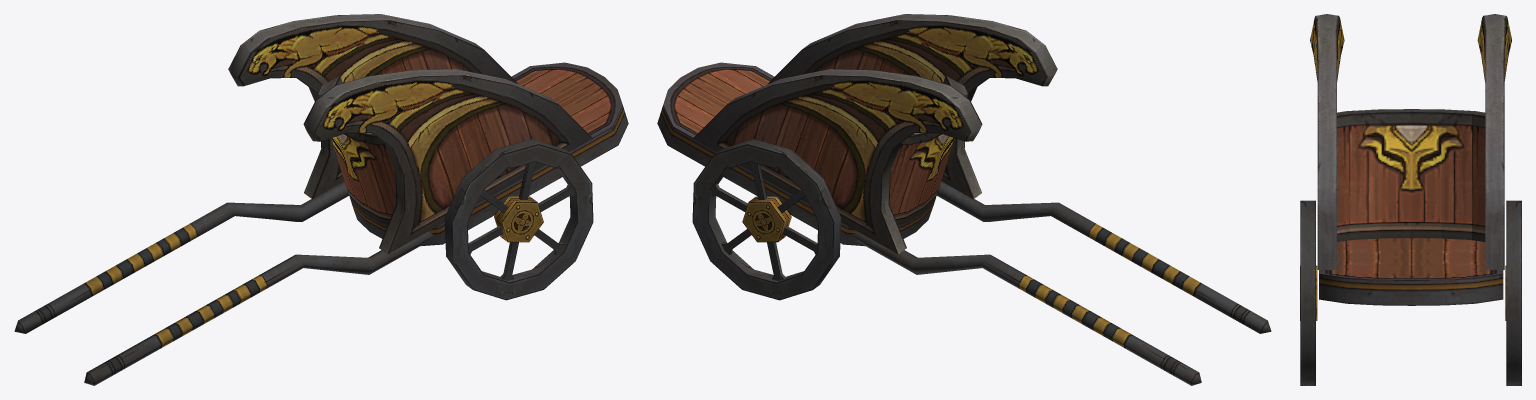
File: 2_SWJ_ShouChe_01.FBX
The picture shows the model from 3 angles, left to right: view 1: azimuth 30°, elevation 25°; view 2: azimuth 150°, elevation 25°; view 3: azimuth 270°, elevation 25°; orthographic projection. The views are drawn at different scales.
Visible parts, largest first — view 1: 2_SWJ_ShouChe_01; view 2: 2_SWJ_ShouChe_01; view 3: 2_SWJ_ShouChe_01.
Part boxes in pixels (<box>): 2_SWJ_ShouChe_01: <box>14,14,628,385</box>; 2_SWJ_ShouChe_01: <box>657,14,1271,385</box>; 2_SWJ_ShouChe_01: <box>1300,14,1521,385</box>.
Size of the model in its own units: 1406 by 578 by 431.
Materials: 1 (1 with a texture image).
